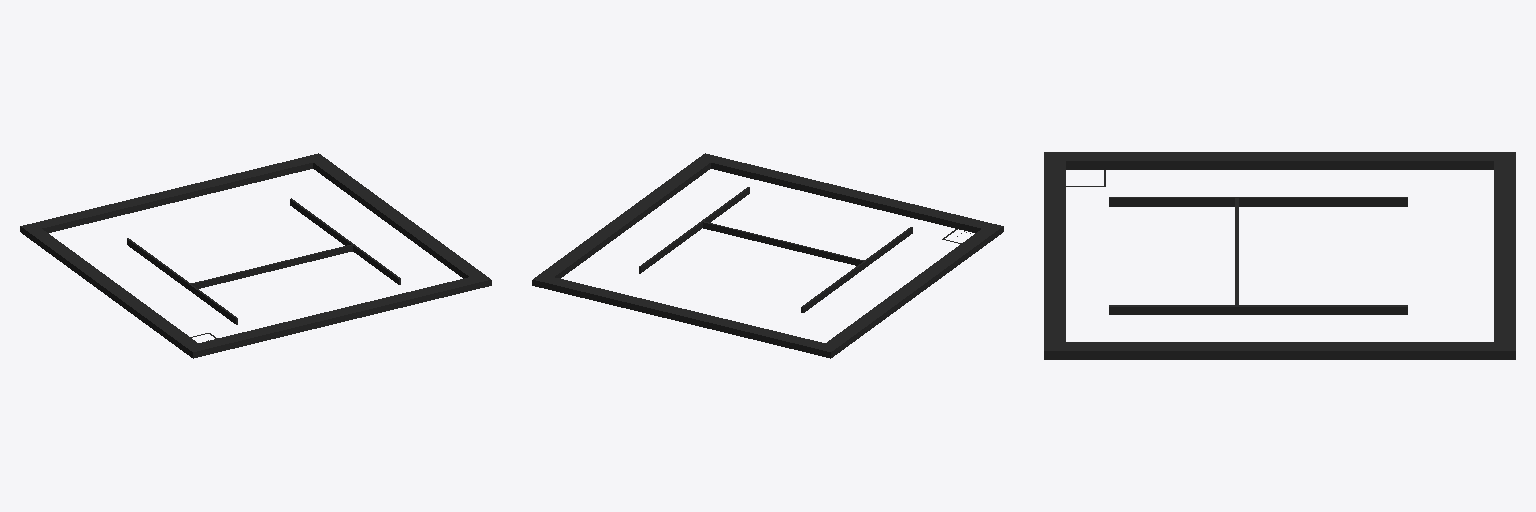
robot.urdf — Room70:
<robot name="Room70">
    <link name="_name">
        <visual> 
            <origin rpy="0.0 0.0 0.0" xyz="-0.5021133741195156 -0.4941057430225265 -0.009999999999999995" />
                <geometry>
                    <mesh filename="Room70/Room70.obj" scale="1 1 0.1" />
                </geometry>

            <material name="black">
                <color rgba="0.2 0.2 0.2 0.95" />
            </material>
        </visual>

       <collision concave="yes" name="collision_0">
            <origin rpy="0.0 0.0 0.0" xyz="-0.5021133741195156 -0.4941057430225265 -0.009999999999999995" />
            <geometry>
                <mesh filename="Room70/Room70_vhacd.obj" scale="1 1 0.1" />
            </geometry>
        </collision>

        <inertial> 
            <mass value="0" />
            <inertia ixx="0" ixy="0" ixz="0" iyy="0" iyz="0" izz="0" />
        </inertial> 
    </link>
</robot>

--- Render facts (derived) ---
The picture shows the robot from 3 angles, left to right: view 1: azimuth 30°, elevation 25°; view 2: azimuth 150°, elevation 25°; view 3: azimuth 270°, elevation 25°; orthographic projection.
Robot: Room70 — 1 links, 0 joints (none); root link _name; default pose: every joint at zero.
Links seen in each view (by area): view 1: _name; view 2: _name; view 3: _name.
Link boxes in pixels (left/top/right/bottom): _name: left=20, top=153, right=491, bottom=358; _name: left=532, top=153, right=1003, bottom=358; _name: left=1044, top=152, right=1515, bottom=359.
Size in the robot's own frame: 1 by 1 by 0.02 metres.
1 mesh visuals loaded from 1 distinct referenced files (1 OBJ).